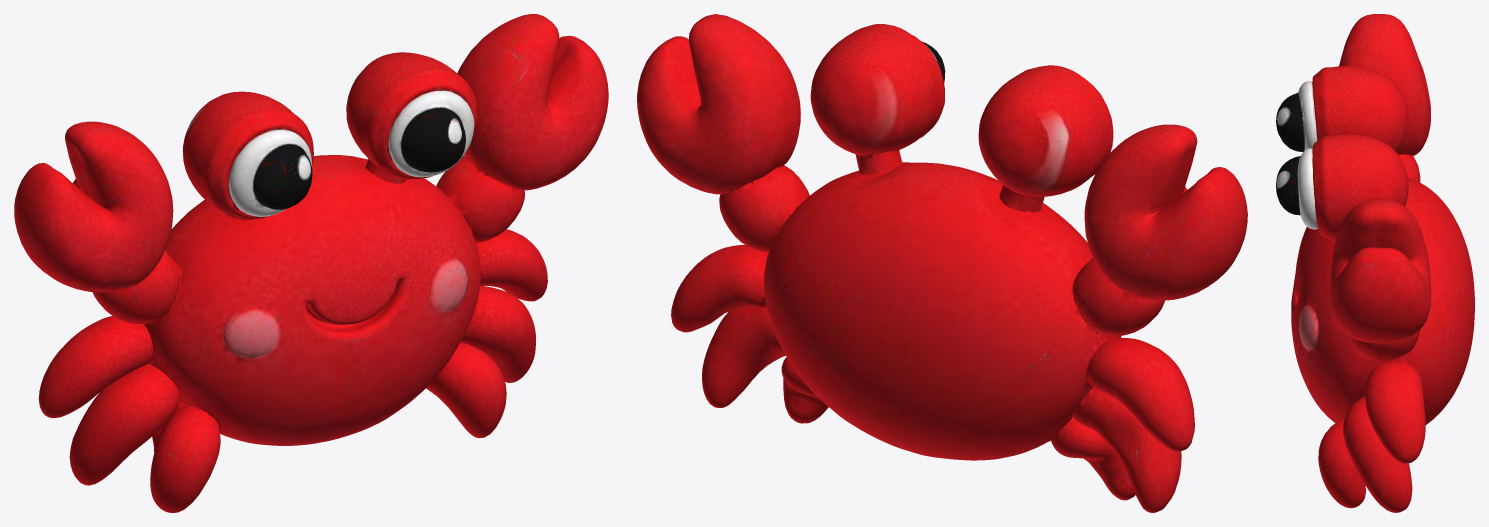
The picture shows the model from 3 angles, left to right: view 1: azimuth 30°, elevation 25°; view 2: azimuth 150°, elevation 25°; view 3: azimuth 270°, elevation 25°; orthographic projection. The views are drawn at different scales.
Size of the model in its own units: 1.9 by 1.24 by 0.6632.
Materials: 1 (1 with a texture image).
